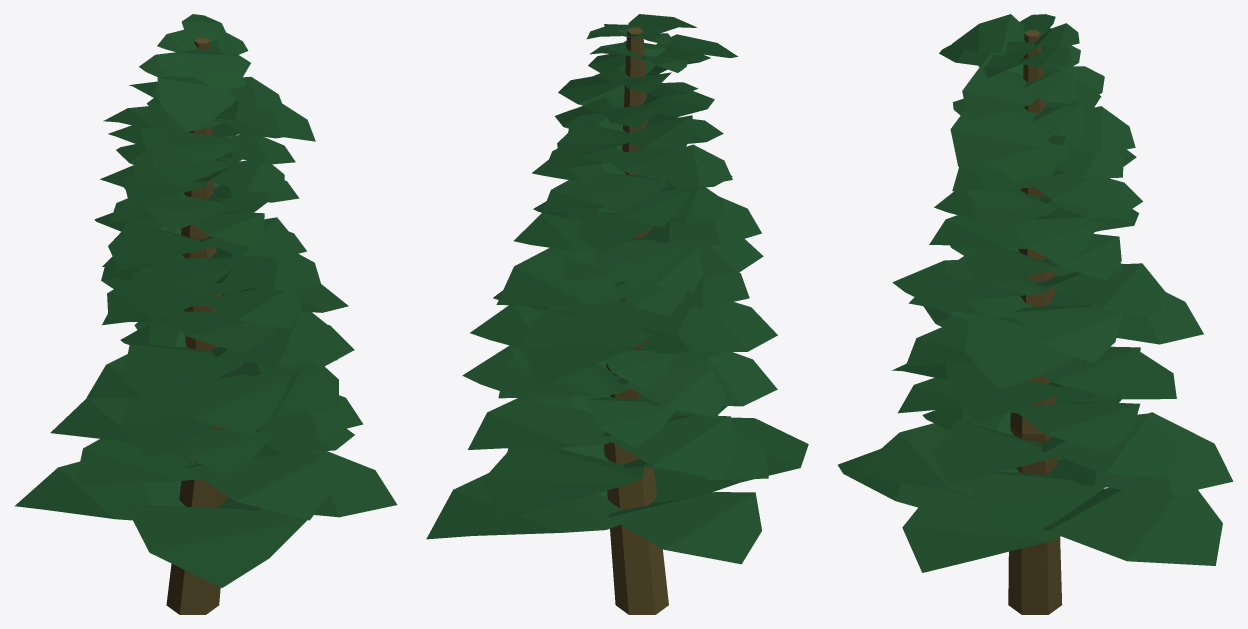
The model's file is Tree2.fbx.
The picture shows the model from 3 angles, left to right: view 1: azimuth 30°, elevation 25°; view 2: azimuth 150°, elevation 25°; view 3: azimuth 270°, elevation 25°; orthographic projection. The views are drawn at different scales.
Visible parts, largest first — view 1: Plane.003, Plane.007, Plane, Plane.023, Cylinder.006, Plane.019, Plane.004, Plane.022, Plane.002, Plane.015, Plane.029, Plane.042 (+38 smaller); view 2: Cylinder.006, Plane, Plane.005, Plane.001, Plane.009, Plane.008, Plane.024, Plane.032, Plane.003, Plane.023, Plane.017, Plane.016 (+39 smaller); view 3: Plane.001, Cylinder.006, Plane.002, Plane.006, Plane.005, Plane.025, Plane.010, Plane.009, Plane.013, Plane.028, Plane.067, Plane.007 (+36 smaller).
Boxes of the visible parts, bbox=[...] form: Plane.003: bbox=[125, 505, 307, 587]; Plane.007: bbox=[186, 452, 331, 520]; Plane: bbox=[14, 461, 185, 520]; Plane.023: bbox=[122, 344, 243, 409]; Cylinder.006: bbox=[166, 37, 228, 614]; Plane.019: bbox=[177, 372, 291, 435]; Plane.004: bbox=[75, 439, 201, 485]; Plane.022: bbox=[210, 311, 337, 366]; Plane.002: bbox=[218, 451, 397, 517]; Plane.015: bbox=[119, 397, 215, 458]; Plane.029: bbox=[200, 288, 302, 329]; Plane.042: bbox=[108, 222, 212, 271]; Cylinder.006: bbox=[603, 28, 668, 614]; Plane: bbox=[608, 492, 761, 564]; Plane.005: bbox=[483, 447, 644, 520]; Plane.001: bbox=[426, 473, 624, 539]; Plane.009: bbox=[468, 398, 611, 449]; Plane.008: bbox=[603, 415, 737, 479]; Plane.024: bbox=[520, 309, 652, 384]; Plane.032: bbox=[496, 248, 623, 305]; Plane.003: bbox=[652, 417, 808, 502]; Plane.023: bbox=[641, 302, 777, 354]; Plane.017: bbox=[498, 353, 628, 398]; Plane.016: bbox=[616, 365, 725, 418]; Plane.001: bbox=[1043, 487, 1222, 565]; Cylinder.006: bbox=[1008, 30, 1062, 614]; Plane.002: bbox=[902, 488, 1060, 572]; Plane.006: bbox=[971, 472, 1100, 540]; Plane.005: bbox=[1050, 412, 1233, 495]; Plane.025: bbox=[964, 314, 1077, 389]; Plane.010: bbox=[933, 420, 1055, 484]; Plane.009: bbox=[1040, 413, 1176, 477]; Plane.013: bbox=[1014, 402, 1140, 453]; Plane.028: bbox=[1013, 304, 1122, 363]; Plane.067: bbox=[950, 107, 1052, 166]; Plane.007: bbox=[854, 423, 1019, 491].
Bounding box in the file's own units: 534 × 997 × 613.
